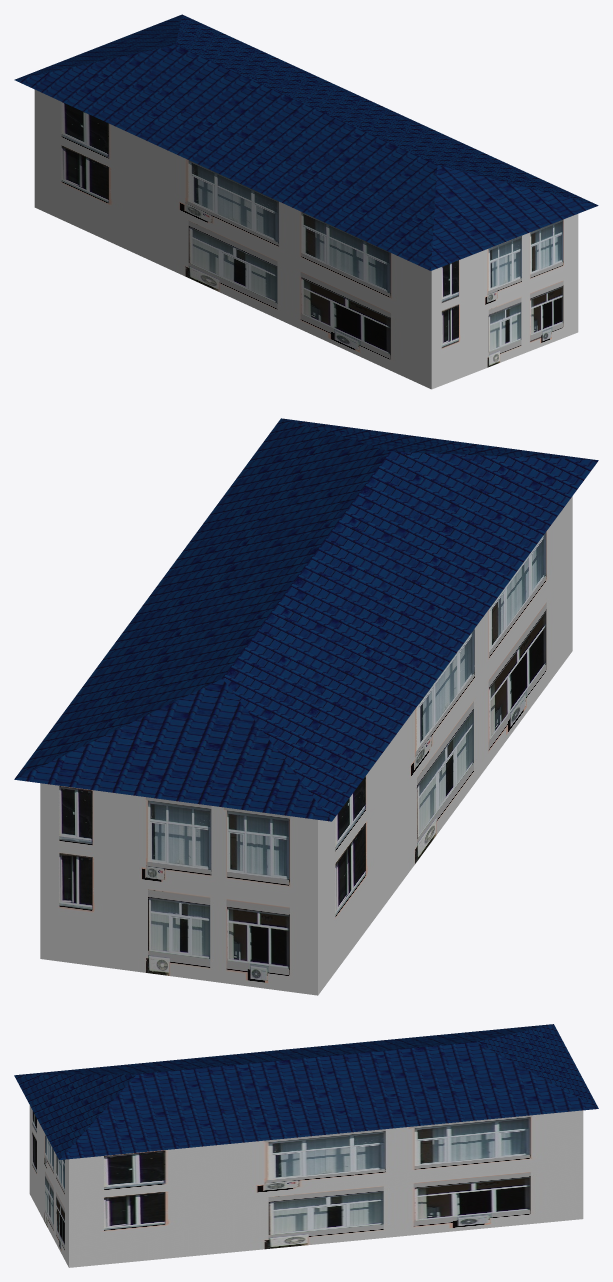
The picture shows the model from 3 angles, top to bottom: view 1: azimuth 30°, elevation 25°; view 2: azimuth 150°, elevation 25°; view 3: azimuth 270°, elevation 25°; orthographic projection. The views are drawn at different scales.
Visible parts, largest first — view 1: CityEngineMaterial_9_m, CityEngineMaterial_6_m; view 2: CityEngineMaterial_6_m, CityEngineMaterial_9_m; view 3: CityEngineMaterial_9_m, CityEngineMaterial_6_m.
Boxes of the visible parts, x1,y1,x2,y2 form: CityEngineMaterial_9_m: (34, 89, 578, 389); CityEngineMaterial_6_m: (14, 14, 598, 270); CityEngineMaterial_6_m: (14, 418, 598, 821); CityEngineMaterial_9_m: (40, 496, 572, 995); CityEngineMaterial_9_m: (29, 1105, 583, 1267); CityEngineMaterial_6_m: (14, 1024, 598, 1159).
Bounding box in the file's own units: 23.17 × 11.77 × 42.08.
